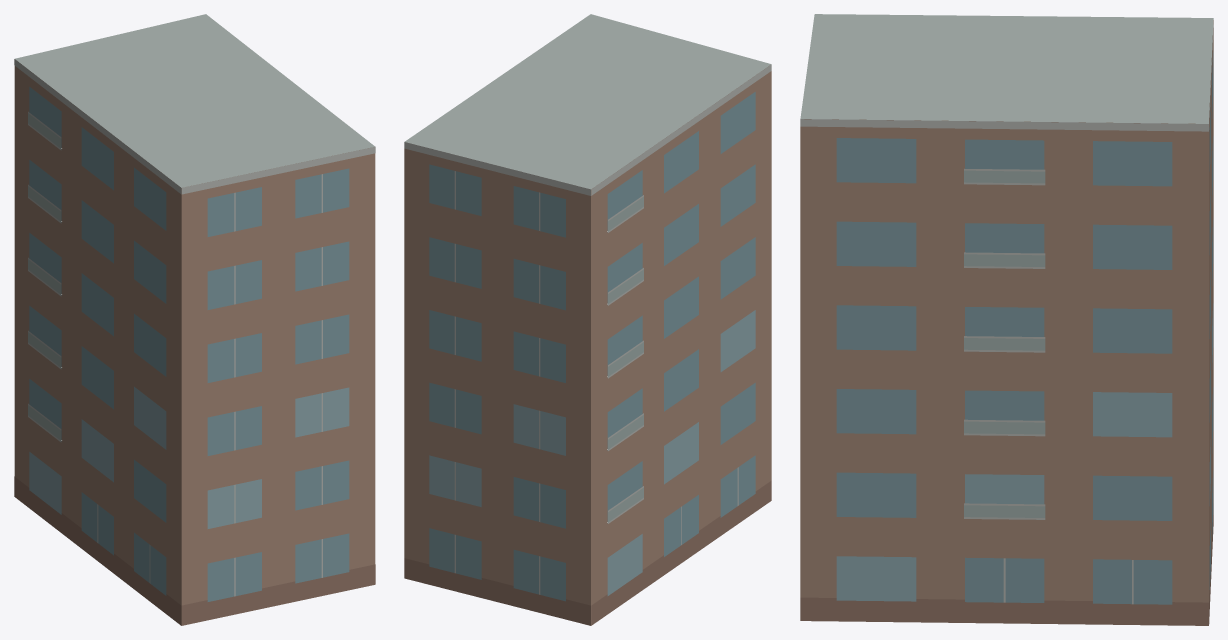
File: survey-upis-32858890.glb
3 views of the same model, side by side, from view 1: azimuth 30°, elevation 25°; view 2: azimuth 150°, elevation 25°; view 3: azimuth 270°, elevation 25° (orthographic). The views are drawn at different scales.
Parts seen in each view (by area): view 1: survey-upis-32858890.tmp; view 2: survey-upis-32858890.tmp; view 3: survey-upis-32858890.tmp.
Part boxes in pixels (x1=…): survey-upis-32858890.tmp: x1=14, y1=14, x2=375, y2=625; survey-upis-32858890.tmp: x1=404, y1=14, x2=771, y2=625; survey-upis-32858890.tmp: x1=800, y1=14, x2=1213, y2=625.
Size of the model in its own units: 7.55 by 16.05 by 11.99.
